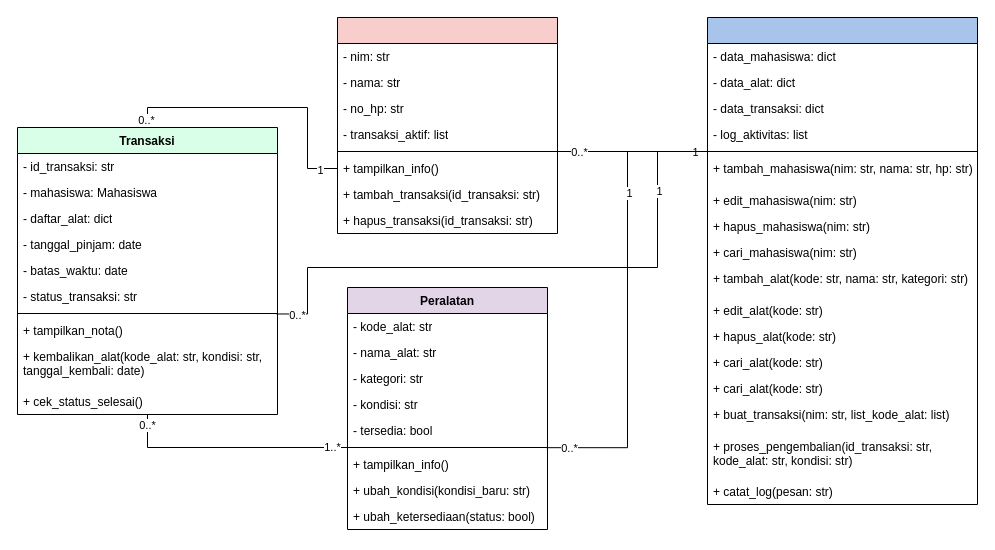
This 995x550 diagram has some shape labels left out. The box of each missing label's shape, as (x1, y1, x2, y2) in pixels:
Mahasiswa: (336, 16, 558, 234)
SistemLaboratorium: (706, 16, 978, 504)
